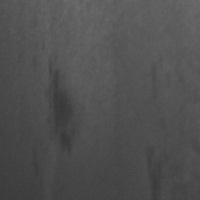inclusion: (43, 57, 81, 161), (139, 144, 168, 200), (144, 58, 170, 110)
